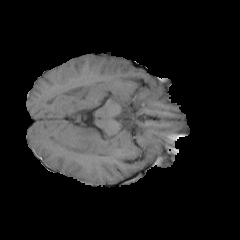glioma: (64, 128, 131, 159)
